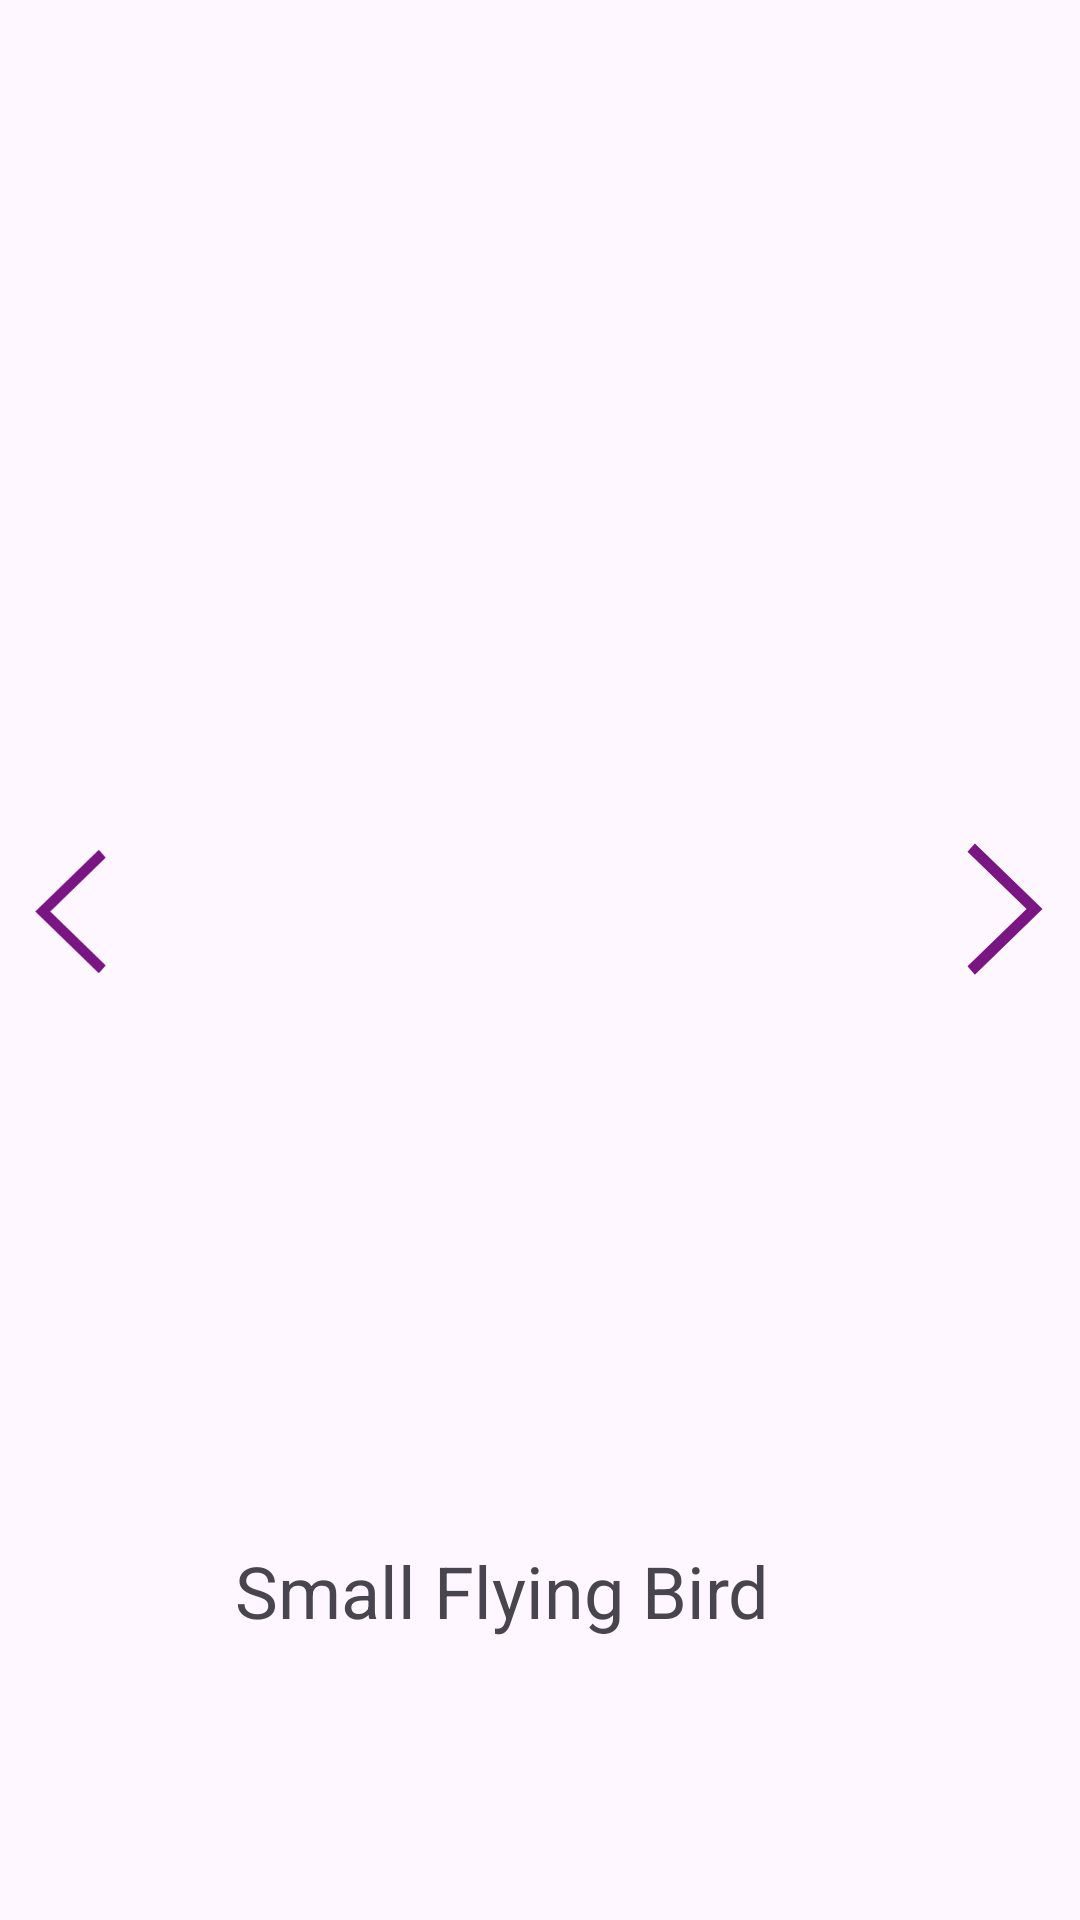

Where to tap for icons on this 1080x1920 app screen, as [x,y]:
left arrow backup: [70,911]
right arrow backup: [1005,909]
